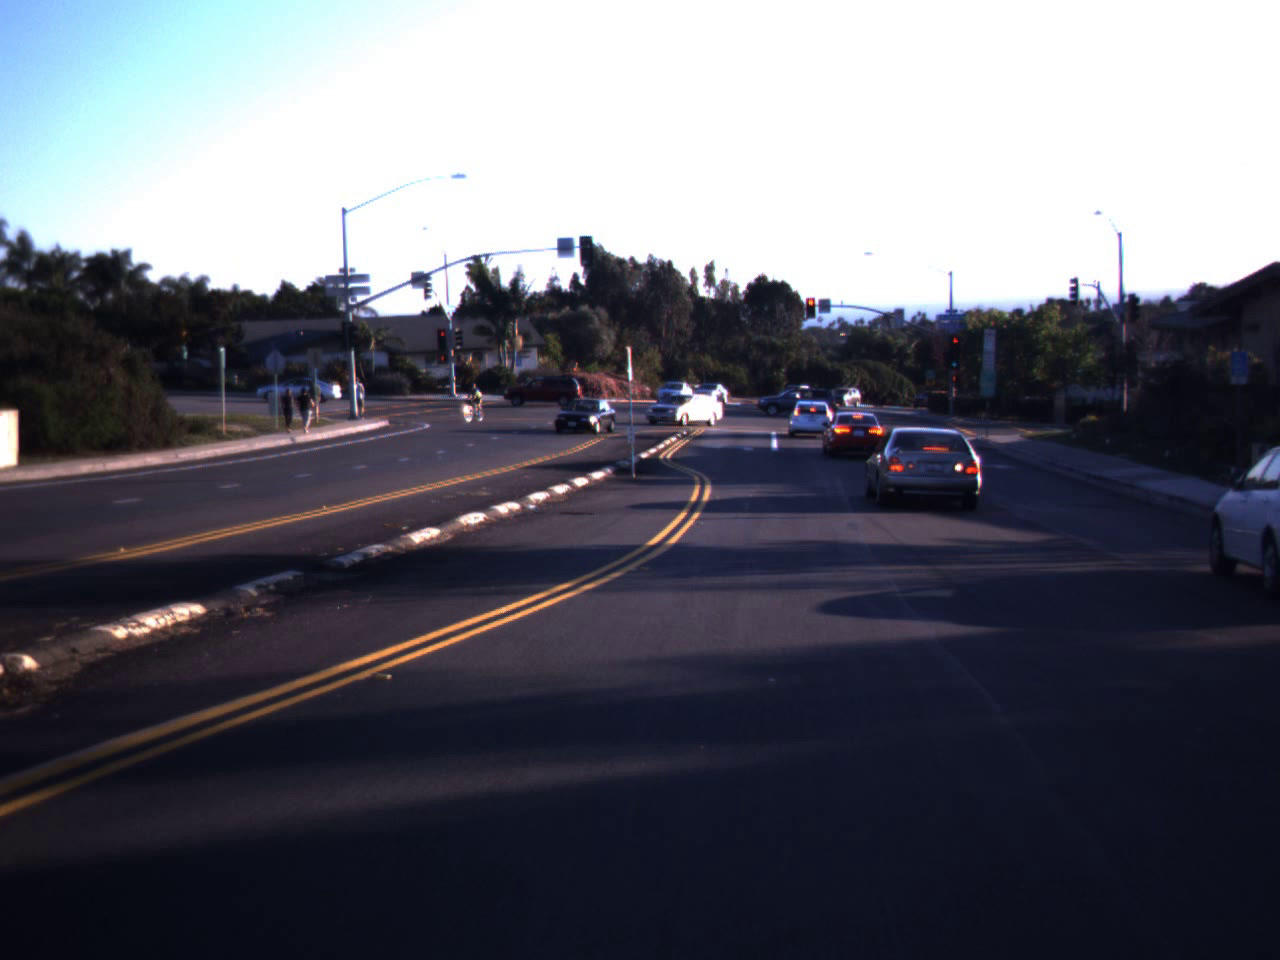stop: (804, 297, 819, 319)
